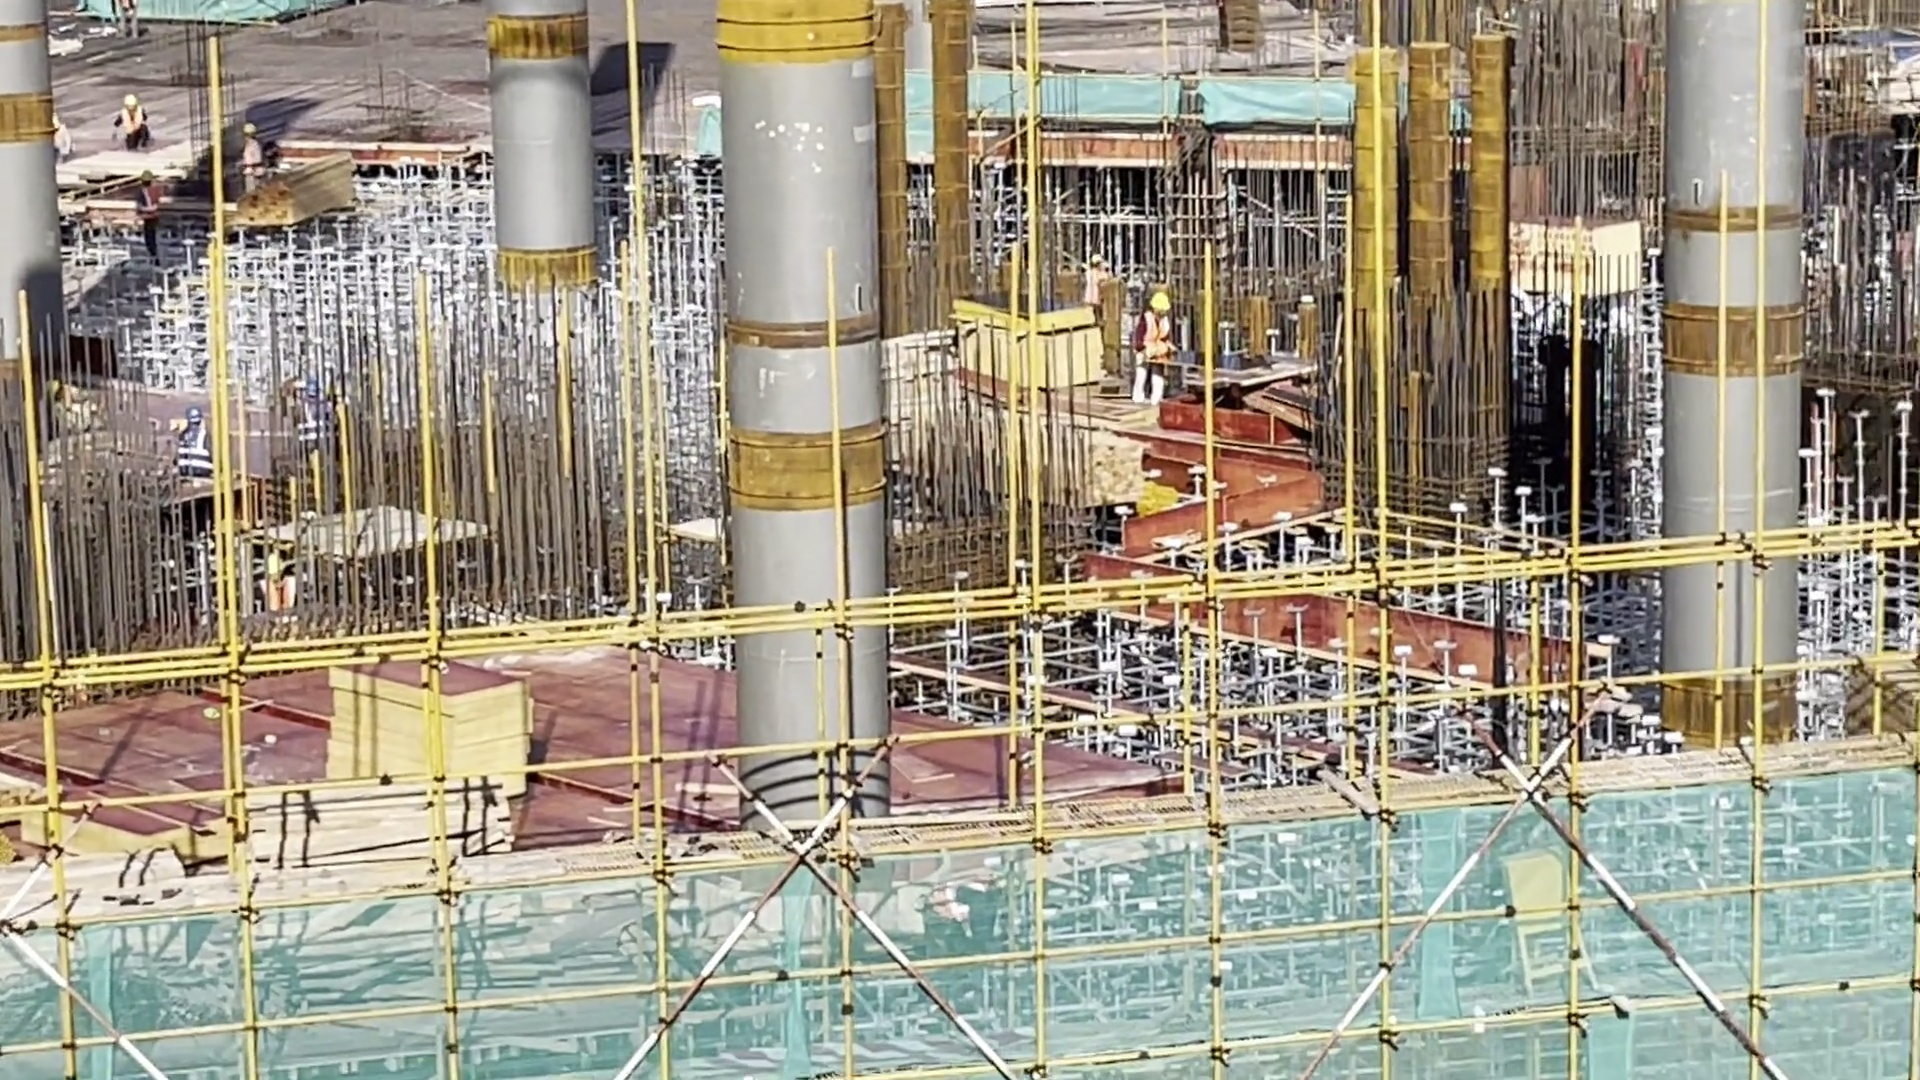helmet: (1144, 281, 1174, 323), (180, 404, 204, 433), (1086, 237, 1108, 271), (260, 550, 285, 578), (115, 86, 140, 109), (236, 116, 256, 141), (141, 169, 160, 187)
person: (1133, 288, 1187, 384), (221, 113, 275, 209), (135, 164, 176, 257), (169, 412, 218, 478), (117, 94, 165, 161), (1073, 250, 1114, 329), (249, 550, 297, 614)
vest: (257, 582, 300, 624), (1140, 323, 1176, 366), (181, 433, 208, 472), (240, 143, 265, 171), (142, 184, 160, 227), (117, 108, 146, 132)
